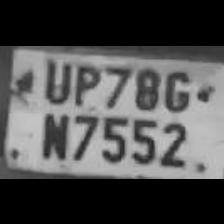2: (157, 116, 189, 166)
5: (96, 111, 128, 161), (126, 113, 158, 163)
7: (98, 60, 132, 108), (68, 107, 96, 162)
8: (128, 64, 160, 108)
G: (160, 64, 192, 110)
N: (35, 108, 67, 158)
P: (69, 58, 101, 106)
U: (38, 56, 72, 104)
